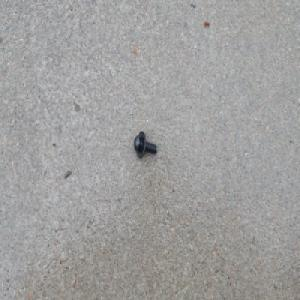BoltWasher: (134, 130, 158, 159)
